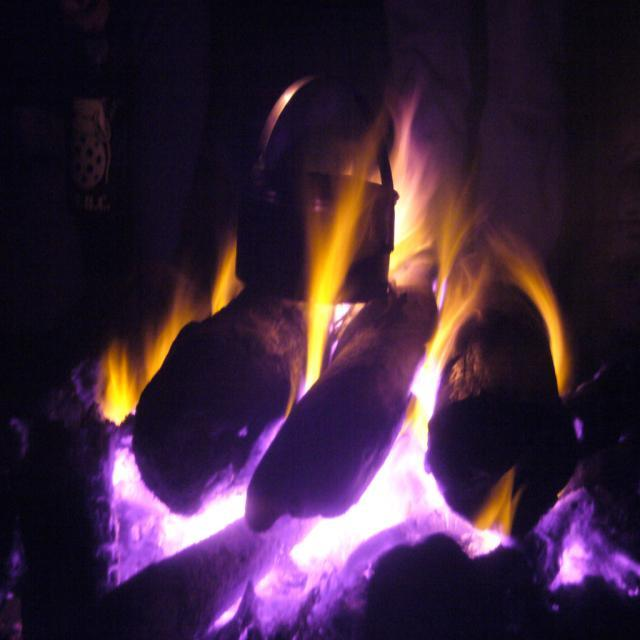Fire: (308, 506, 387, 572), (174, 498, 240, 535), (209, 518, 210, 520)
